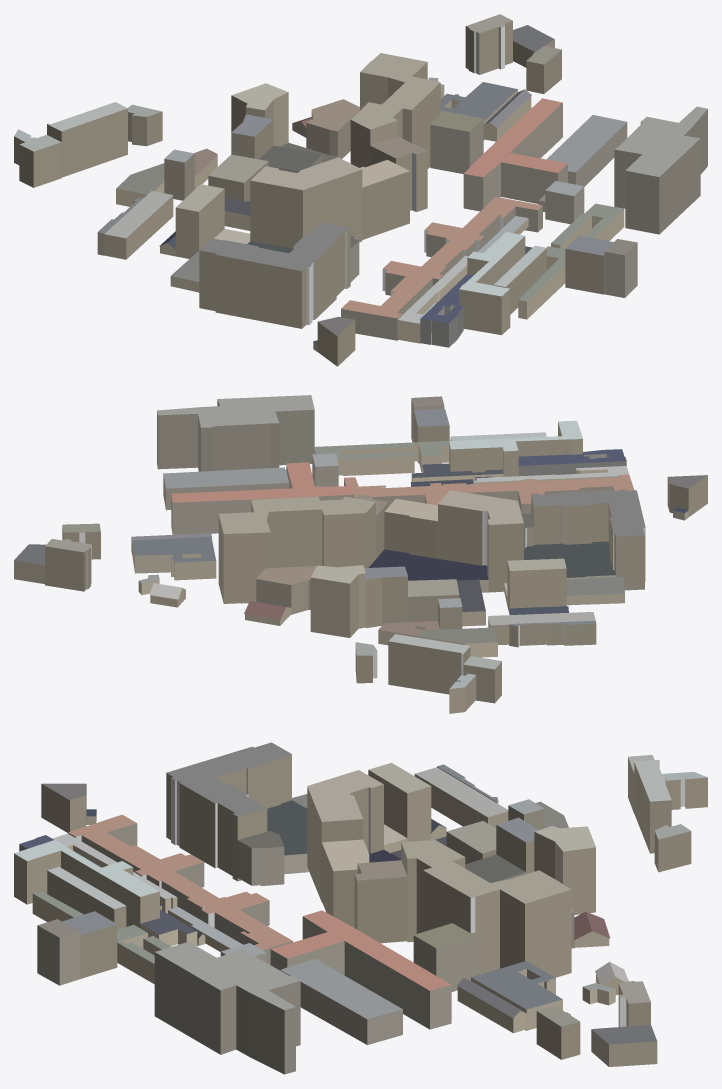
3 views of the same model, one above another, from view 1: azimuth 30°, elevation 25°; view 2: azimuth 150°, elevation 25°; view 3: azimuth 270°, elevation 25° (orthographic). The views are drawn at different scales.
Parts seen in each view (by area): view 1: tuile; view 2: tuile; view 3: tuile.
Part boxes in pixels (x1,y1,x2,y2): tuile: (14, 14, 707, 366); tuile: (14, 395, 707, 713); tuile: (14, 742, 707, 1074).
Size of the model in its own units: 277 by 39.36 by 276.
